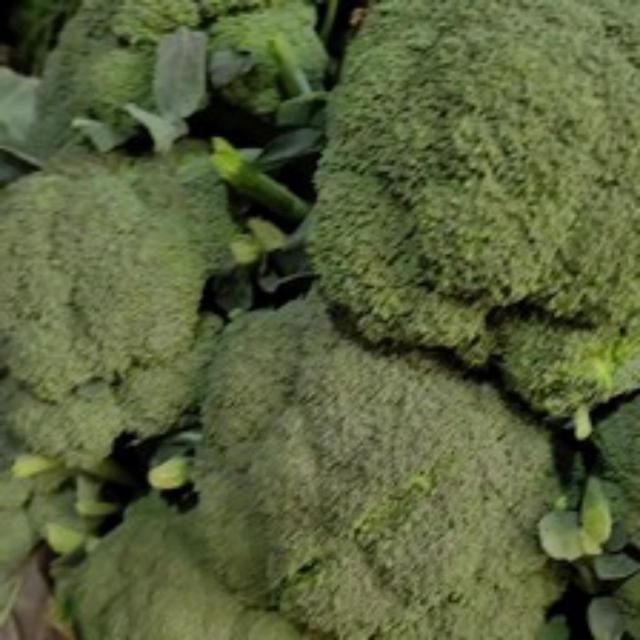broccoli: (162, 280, 582, 637)
